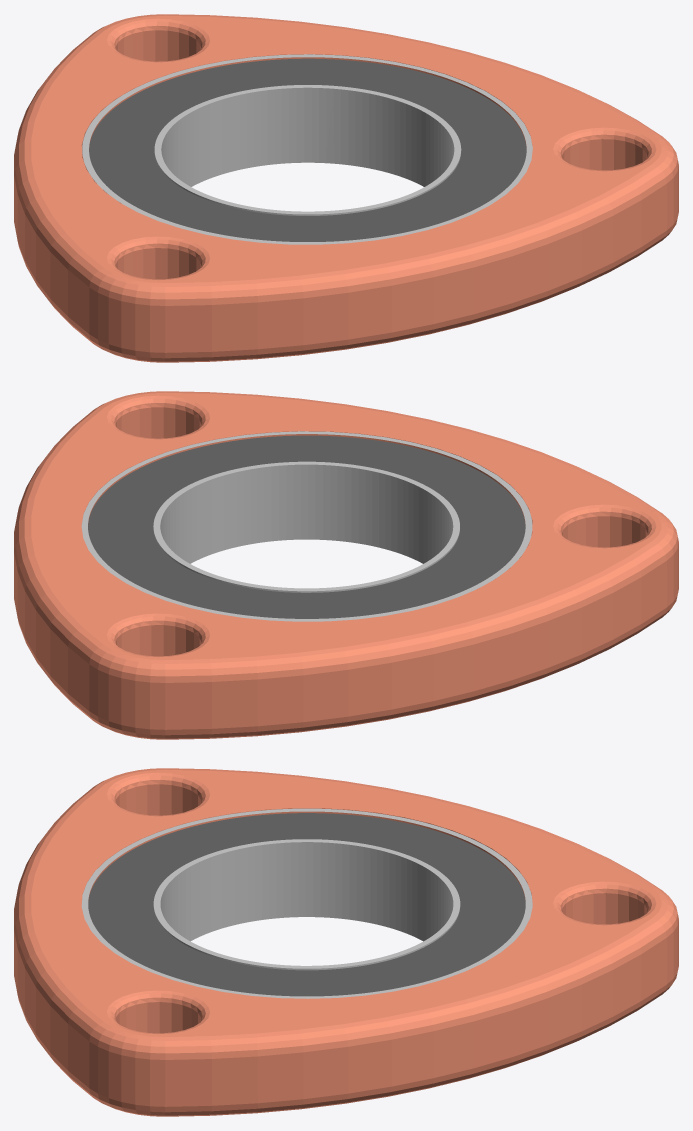
Rendered from triangle.glb.
The picture shows the model from 3 angles, top to bottom: view 1: azimuth 30°, elevation 25°; view 2: azimuth 150°, elevation 25°; view 3: azimuth 270°, elevation 25°; orthographic projection.
Parts seen in each view (by area): view 1: imagetostl_mesh0; view 2: imagetostl_mesh0; view 3: imagetostl_mesh0.
Boxes of the visible parts, x1,y1,x2,y2 form: imagetostl_mesh0: (14, 14, 678, 362); imagetostl_mesh0: (14, 391, 678, 739); imagetostl_mesh0: (14, 768, 678, 1116).
Bounding box in the file's own units: 38.71 × 5 × 38.6.
